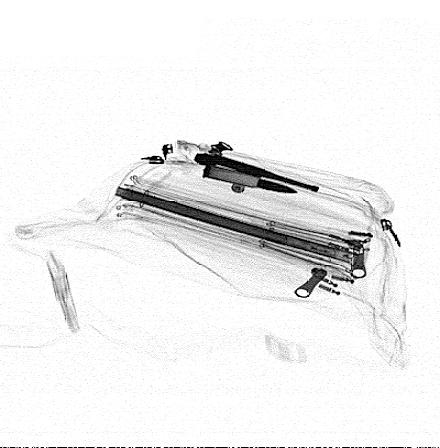Bullet: (204, 165, 299, 192)
Gun: (192, 153, 321, 191)
